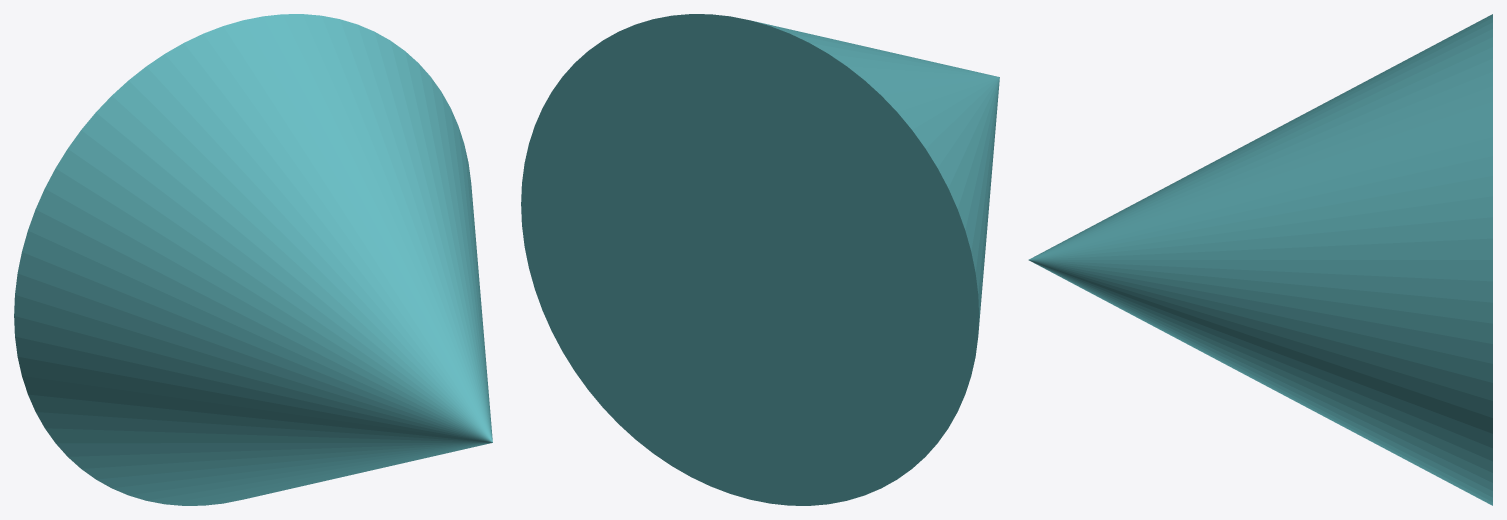
3 renders of one model, left to right at view 1: azimuth 30°, elevation 25°; view 2: azimuth 150°, elevation 25°; view 3: azimuth 270°, elevation 25°, orthographic. The views are drawn at different scales.
Parts seen in each view (by area): view 1: cone; view 2: cone; view 3: cone.
Part boxes in pixels (bbox=[...]): cone: bbox=[14, 14, 492, 505]; cone: bbox=[521, 14, 999, 505]; cone: bbox=[1028, 14, 1492, 505].
Size of the model in its own units: 3.6 by 3.6 by 3.4.
